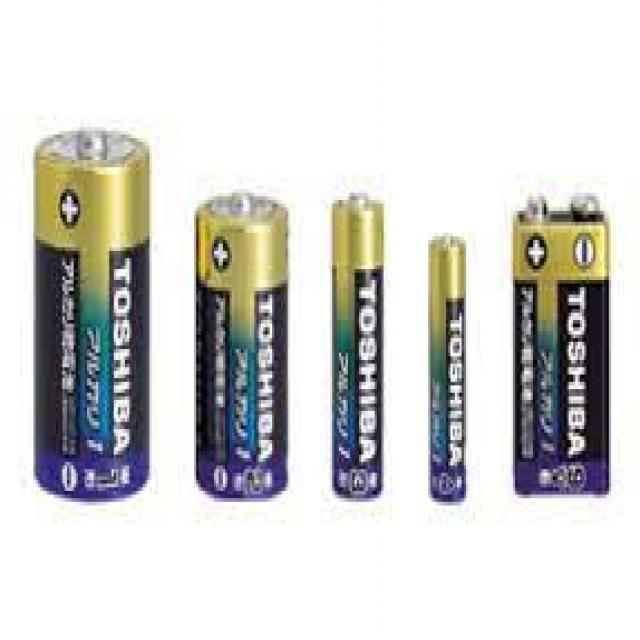Hazard: (30, 124, 156, 510), (190, 186, 292, 502), (511, 192, 610, 502), (326, 190, 386, 507), (424, 232, 469, 508)
